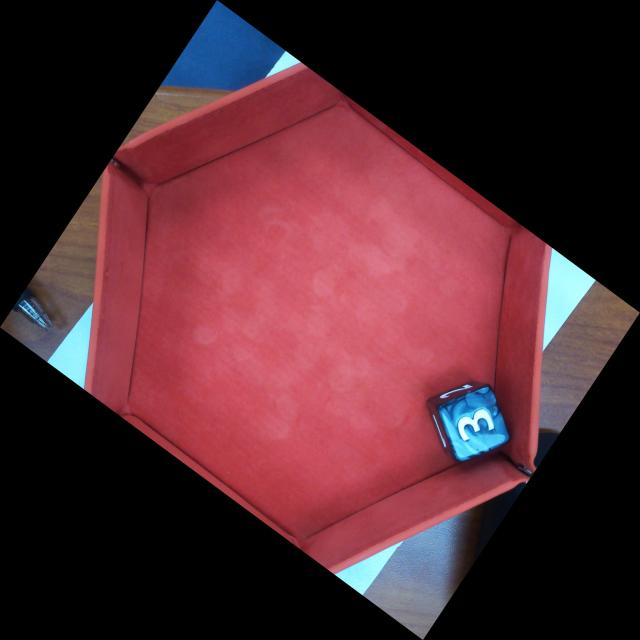dice: (442, 383, 513, 462)
